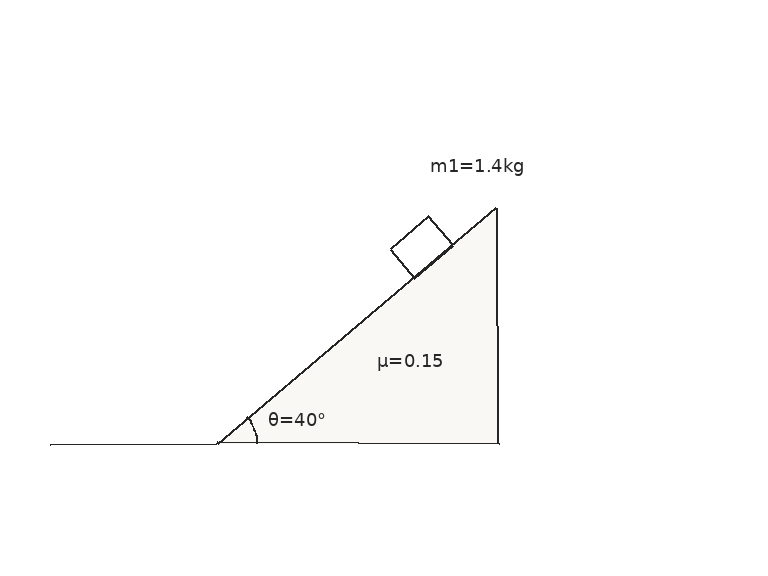block: (388, 214, 455, 280)
ramp: (215, 206, 499, 445)
